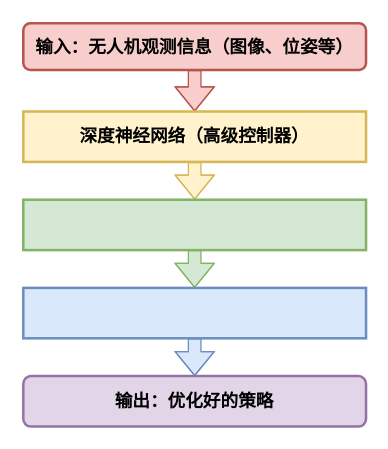
Some shapes in this 388 by 449 pixel diagram are drawn without their labels. The shapes that lost their labels are listed below. From the top down, each one's centre as x and y in pixels, then its label:
the point at 194,224: PID控制器（低级控制器）
the point at 194,312: 强化学习优化策略（PPO算法）
